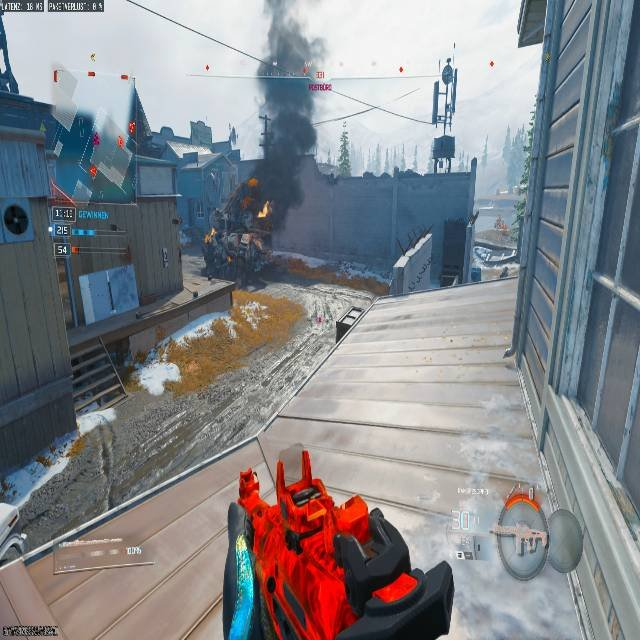head: (241, 177, 260, 199)
player: (207, 178, 274, 291), (109, 223, 118, 230)
